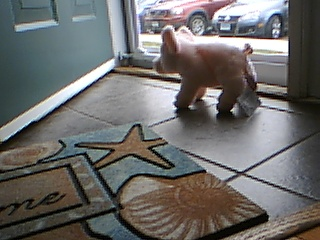piggy: (151, 23, 259, 116)
